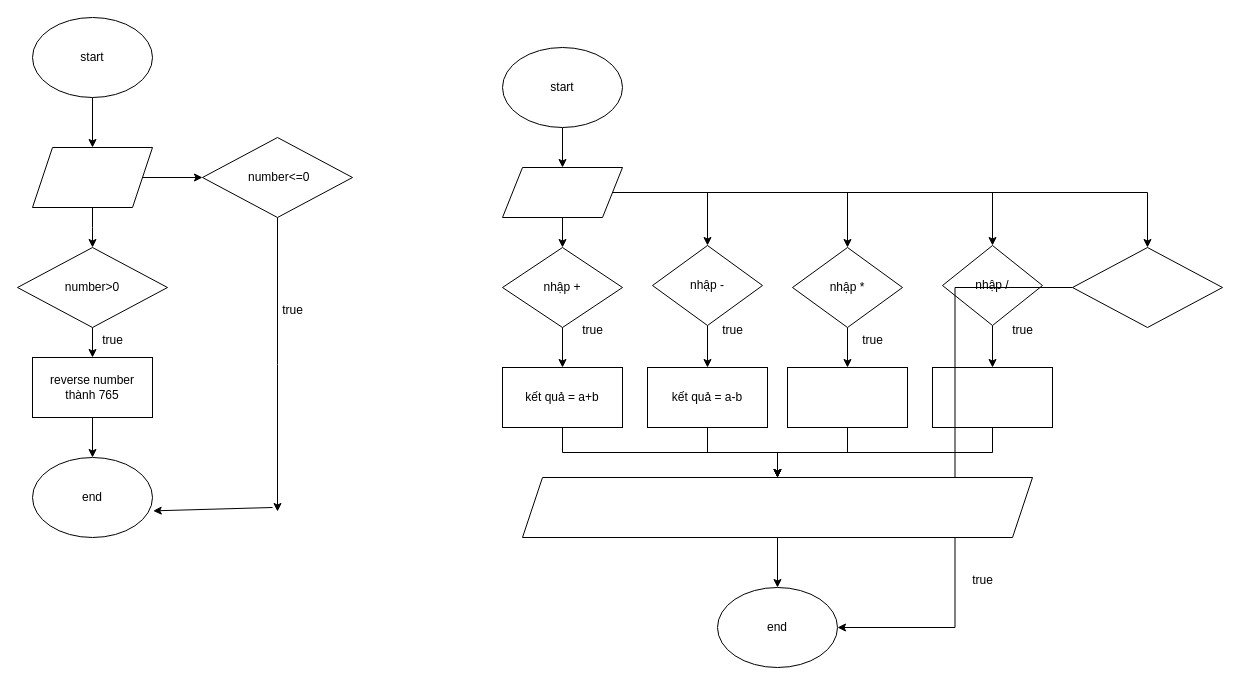
This 1240x685 diagram has some shape labels left out. Each missing label, with the centre of its shape:
"in ra kết quả" belongs at [777,507].
"kết quả = a*b" belongs at [847,397].
"kết quả = a/b" belongs at [992,397].
"nhập a,b" belongs at [562,192].
"nhập dấu khác{+;-;*;/}" belongs at [1147,287].
"nhập number= 567" belongs at [92,177].
